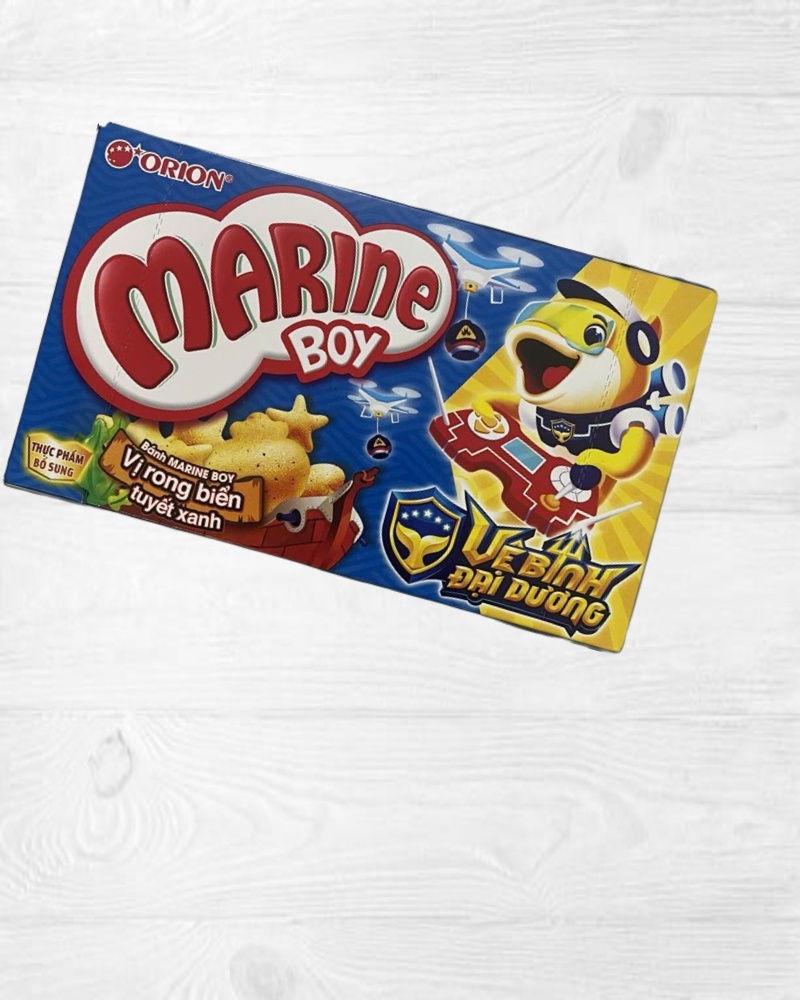Marine: (3, 121, 723, 657)
